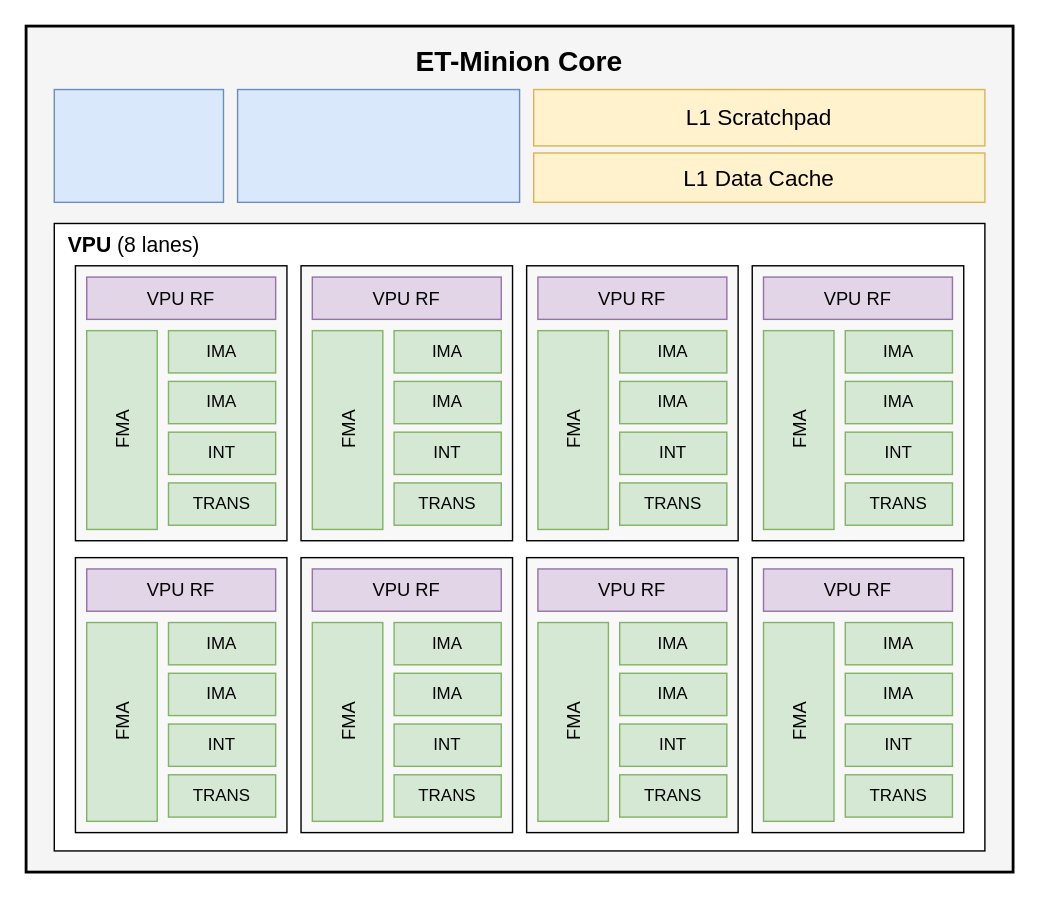
Some shapes in this 1038 by 897 pixel diagram are drawn without their labels. The shapes that lost their labels are listed below. From the top down, each one's centre as x and y in pixels, then its label:
At point 138,145: "Front End".
At point 378,145: "Integer Pipeline".
